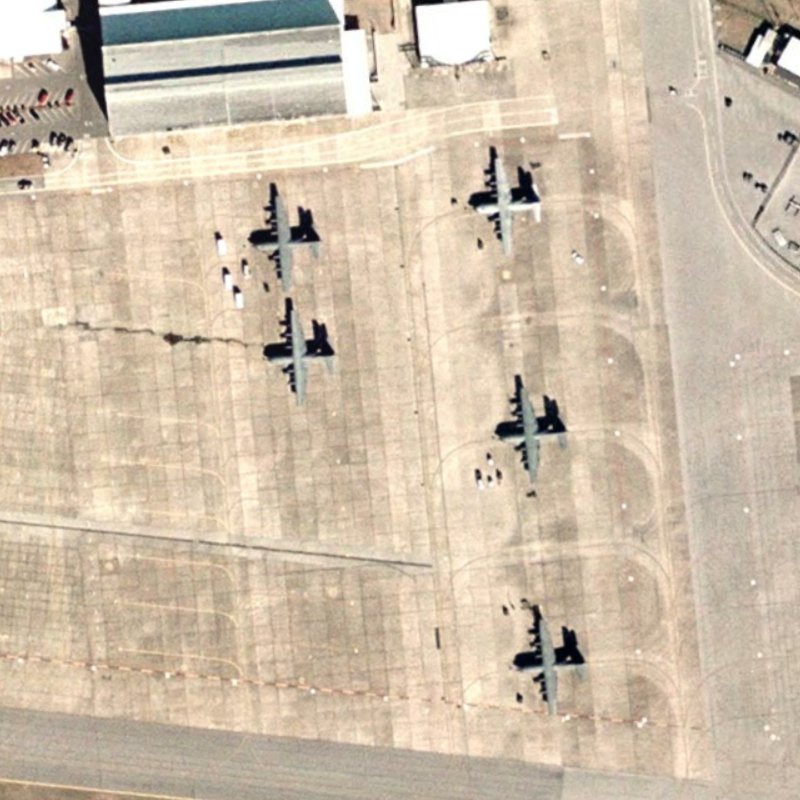A2: (511, 613, 593, 720), (246, 188, 325, 298), (470, 152, 548, 262), (497, 384, 574, 489), (263, 305, 336, 411)
